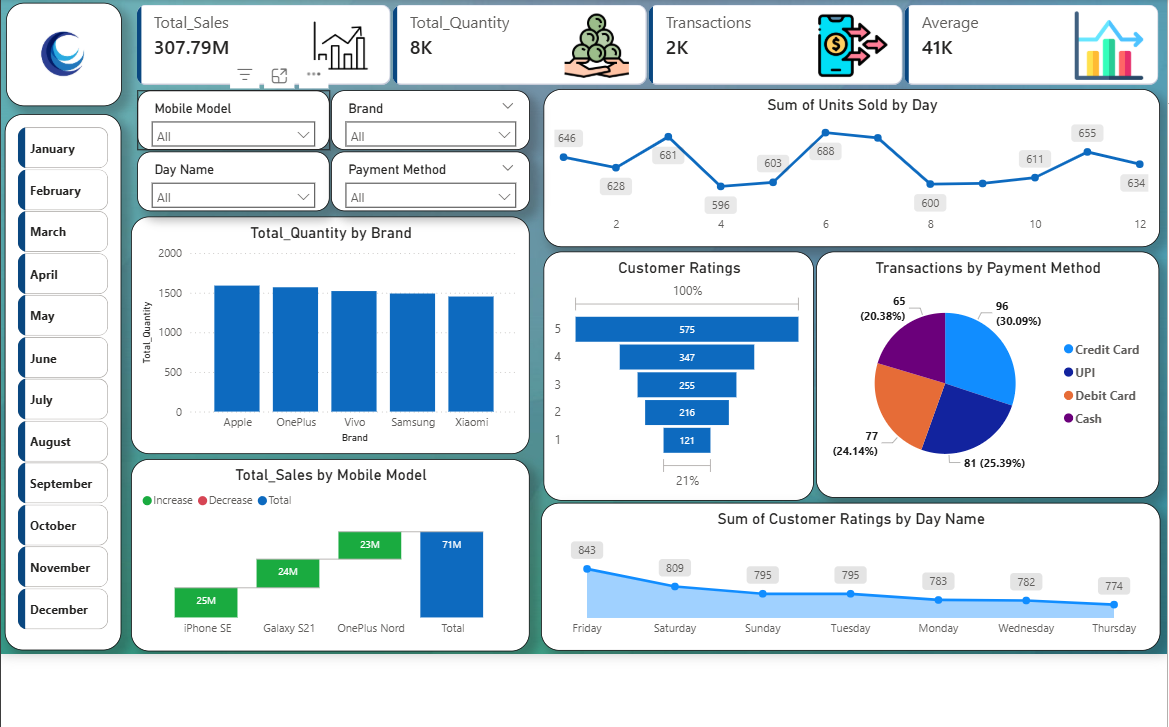

The page's visual inventory and layout, read from the dashboard file:
{"tool":"powerbi","page":{"name":"Page 1","canvas":[1280,720],"ordinal":0},"visuals":[{"type":"shape","box":[5,3.8,127.5,113.8],"z":0},{"type":"image","box":[13.8,11.2,108.8,98.8],"z":1000},{"type":"shape","box":[4.7,126.6,128.1,589.1],"z":2000},{"type":"advancedSlicerVisual","fields":{"Values":["Sheet1.Date.Variation.Date Hierarchy.Month"]},"box":[14.1,135.9,109.4,571.9],"z":3000},{"type":"cardVisual","fields":{"Data":["Mobile_Sales_Data.Total_Sales","Mobile_Sales_Data.Total_Quantity","Mobile_Sales_Data.Transactions","Mobile_Sales_Data.Average"]},"box":[142.7,0,1137.6,100.2],"z":4000},{"type":"clusteredColumnChart","fields":{"Y":["Mobile_Sales_Data.Total_Quantity"],"Category":["Mobile_Sales_Data.Brand"]},"box":[142.2,239.1,437.5,260.9],"z":5000},{"type":"lineChart","fields":{"Y":["Sum(Mobile_Sales_Data.Units Sold)"],"Category":["Mobile_Sales_Data.Date.Variation.Date Hierarchy.Month","Mobile_Sales_Data.Date.Variation.Date Hierarchy.Day"]},"box":[595.3,98.4,676.6,173.4],"z":6000},{"type":"waterfallChart","fields":{"Category":["Mobile_Sales_Data.Mobile Model"],"Y":["Mobile_Sales_Data.Total_Sales"]},"box":[142.2,504.7,437.5,210.9],"z":7000},{"type":"pieChart","fields":{"Y":["Mobile_Sales_Data.Transactions"],"Category":["Mobile_Sales_Data.Payment Method"]},"box":[895.3,276.6,376.6,270.3],"z":8000},{"type":"funnel","title":"Customer Ratings","fields":{"Category":["Mobile_Sales_Data.Customer Ratings"],"Y":["CountNonNull(Mobile_Sales_Data.Customer Ratings)"]},"box":[595.3,276.6,296.9,273.4],"z":9000},{"type":"areaChart","fields":{"Category":["Mobile_Sales_Data.Day Name"],"Y":["Sum(Mobile_Sales_Data.Customer Ratings)"]},"box":[592.2,553.1,679.7,162.5],"z":10000},{"type":"slicer","fields":{"Values":["Mobile_Sales_Data.Mobile Model"]},"box":[150,100,210.9,65.6],"z":11000},{"type":"slicer","fields":{"Values":["Mobile_Sales_Data.Brand"]},"box":[362.5,100,218.8,65.6],"z":12000},{"type":"slicer","fields":{"Values":["Mobile_Sales_Data.Day Name"]},"box":[150,167.2,210.9,65.6],"z":13000},{"type":"slicer","fields":{"Values":["Mobile_Sales_Data.Payment Method"]},"box":[362.5,167.2,218.8,65.6],"z":14000}]}

Visuals, with their boxes on the page's 1280x720 design canvas (x1, y1, x2, y2). These are canvas units, not pixel positions in the 1169x727 screenshot, which may show the page scaled, cropped or inside an application window:
shape: box(5, 4, 132, 118)
image: box(14, 11, 123, 110)
shape: box(5, 127, 133, 716)
advancedSlicerVisual - Sheet1.Date.Variation.Date Hierarchy.Month: box(14, 136, 124, 708)
cardVisual - Mobile_Sales_Data.Total_Sales x Mobile_Sales_Data.Total_Quantity: box(143, 0, 1280, 100)
clusteredColumnChart - Mobile_Sales_Data.Total_Quantity x Mobile_Sales_Data.Brand: box(142, 239, 580, 500)
lineChart - Sum(Mobile_Sales_Data.Units Sold) x Mobile_Sales_Data.Date.Variation.Date Hierarchy.Month: box(595, 98, 1272, 272)
waterfallChart - Mobile_Sales_Data.Mobile Model x Mobile_Sales_Data.Total_Sales: box(142, 505, 580, 716)
pieChart - Mobile_Sales_Data.Transactions x Mobile_Sales_Data.Payment Method: box(895, 277, 1272, 547)
"Customer Ratings" funnel: box(595, 277, 892, 550)
areaChart - Mobile_Sales_Data.Day Name x Sum(Mobile_Sales_Data.Customer Ratings): box(592, 553, 1272, 716)
slicer - Mobile_Sales_Data.Mobile Model: box(150, 100, 361, 166)
slicer - Mobile_Sales_Data.Brand: box(362, 100, 581, 166)
slicer - Mobile_Sales_Data.Day Name: box(150, 167, 361, 233)
slicer - Mobile_Sales_Data.Payment Method: box(362, 167, 581, 233)
